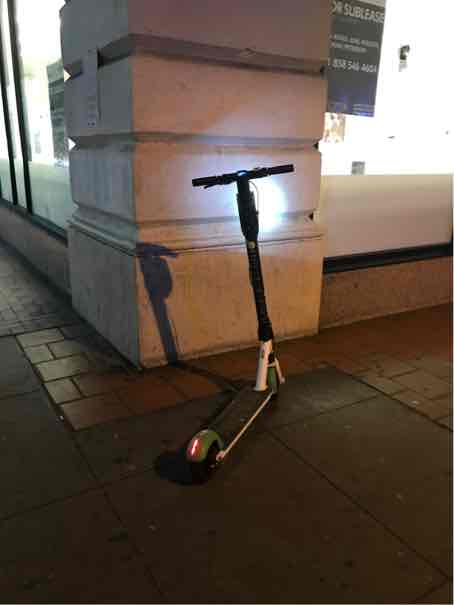scooter: (171, 156, 303, 493)
